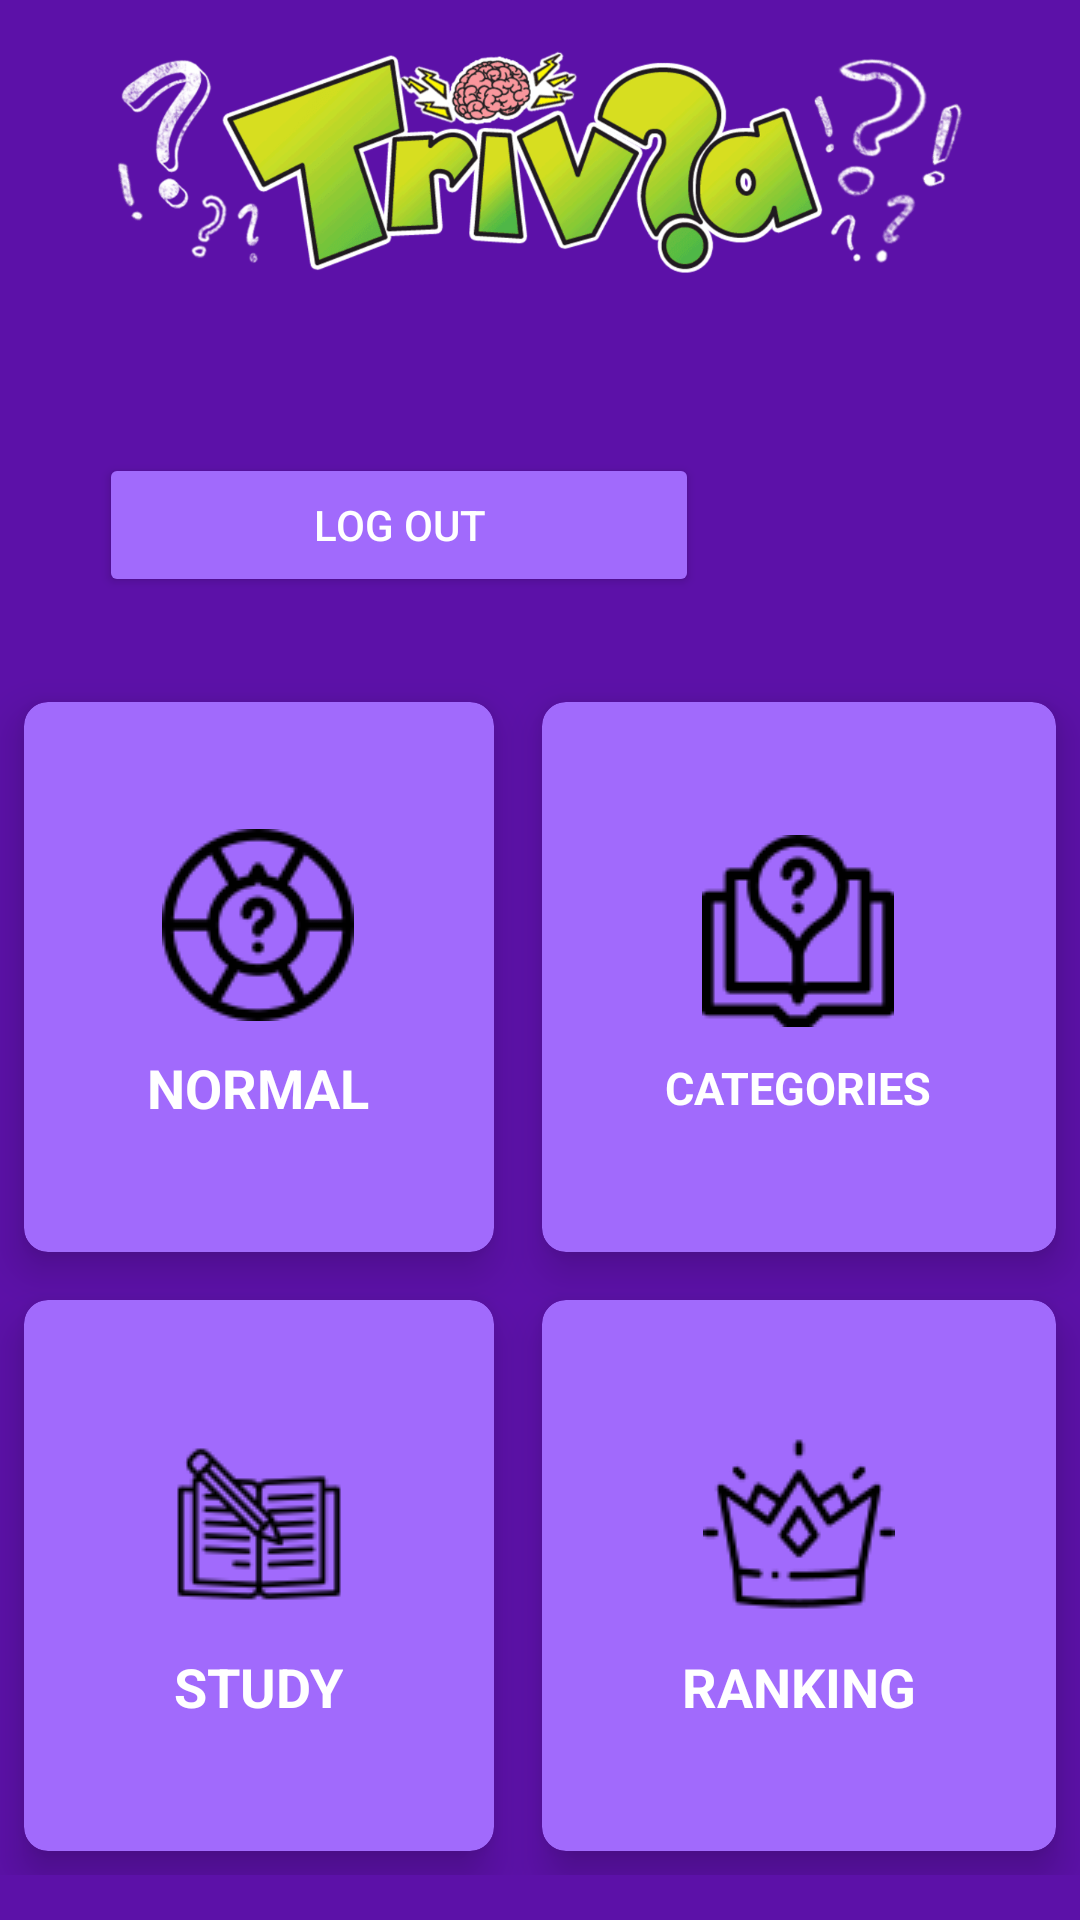

Screen size 1080w x 1920h. Icon name, then its box in pixels as (x1, y1, x2, y2):
estudio: (177, 1448, 341, 1600)
